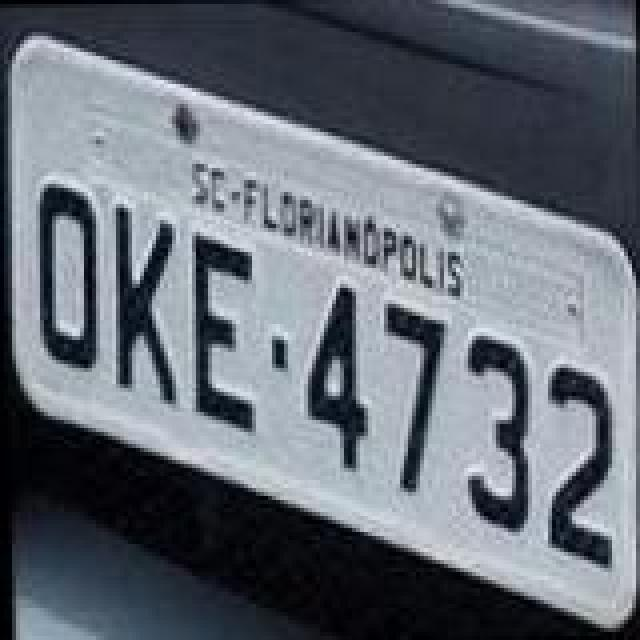2: (538, 362, 618, 574)
3: (460, 330, 536, 534)
4: (296, 280, 368, 472)
7: (382, 302, 450, 498)
E: (184, 226, 256, 430)
K: (112, 202, 184, 406)
O: (32, 180, 104, 372)
